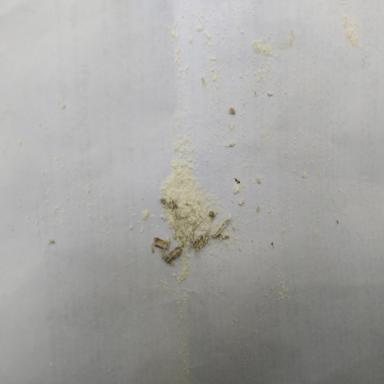pbw: (211, 216, 231, 238), (164, 246, 183, 263), (193, 233, 209, 252), (160, 193, 177, 209), (152, 236, 170, 250)
